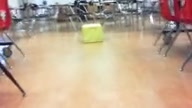cube: (81, 24, 103, 43)
